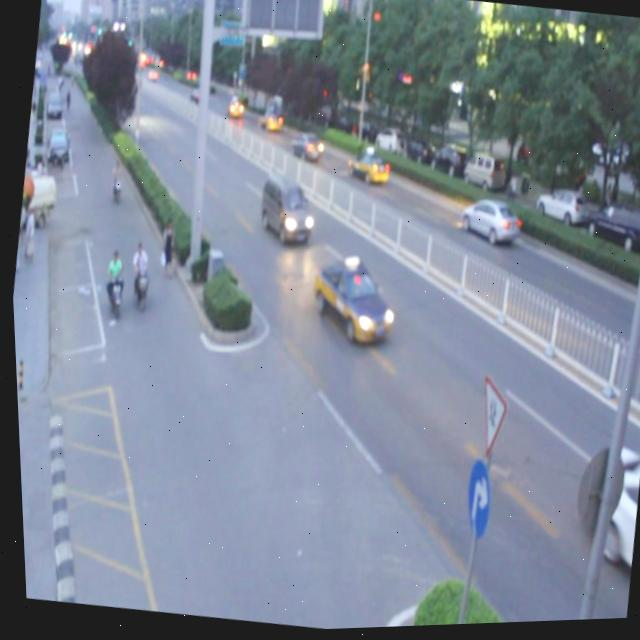car: (302, 253, 396, 352), (454, 195, 520, 255), (344, 149, 388, 187), (286, 131, 323, 166), (254, 106, 281, 134), (225, 97, 244, 120)
truck: (253, 173, 315, 248)
